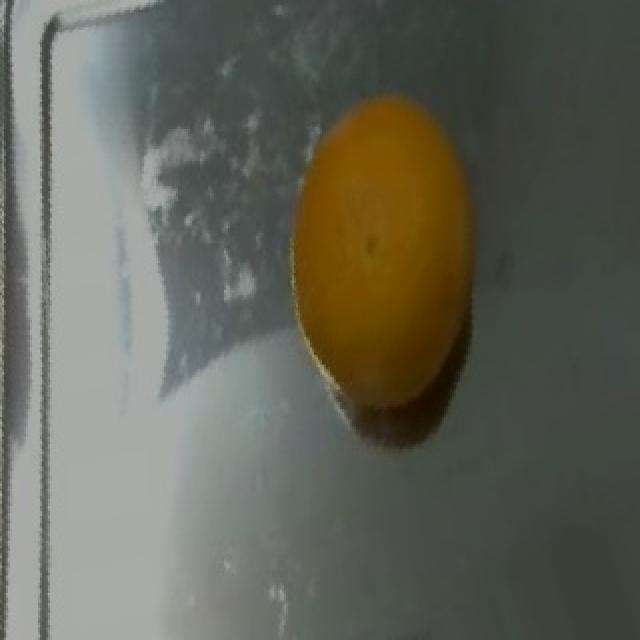Fruit: (266, 70, 502, 424), (116, 543, 314, 640)
